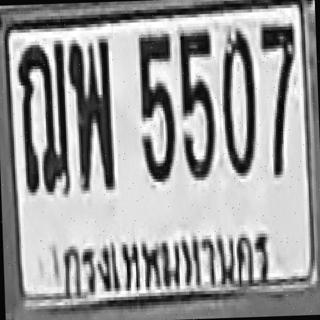A12: (16, 38, 70, 194)
A30: (67, 36, 114, 191)
N00: (219, 26, 256, 175)
N05: (178, 27, 216, 179), (137, 32, 174, 181)
N07: (260, 20, 298, 175)
P04: (57, 222, 278, 310)
